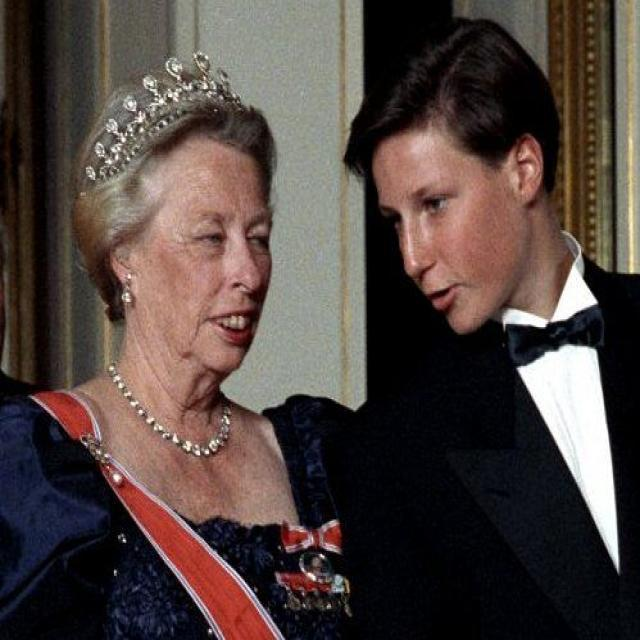Earring: (117, 262, 143, 314)
